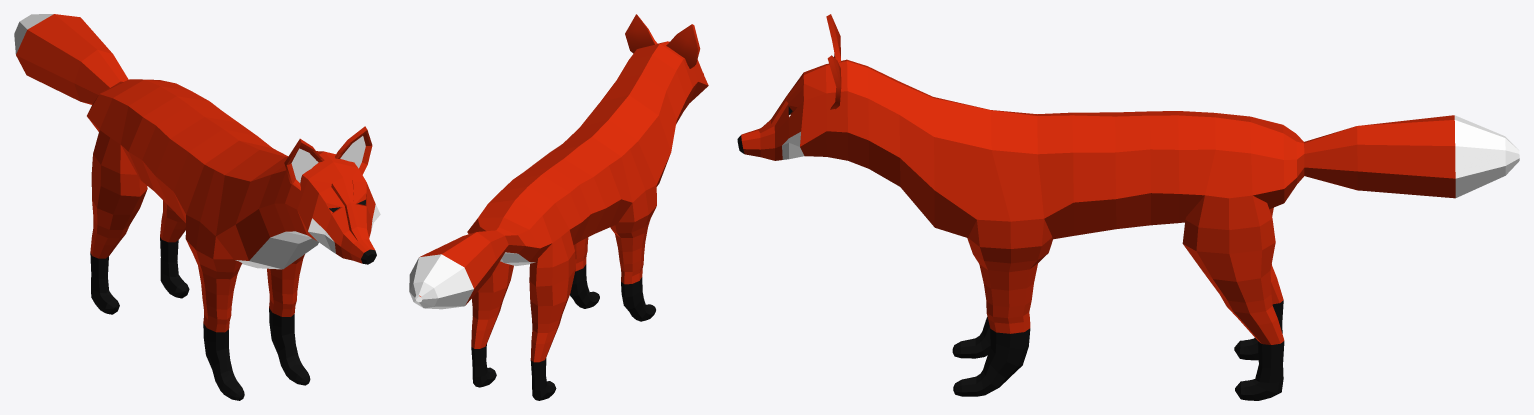
Rendered from fox.FBX.
The picture shows the model from 3 angles, left to right: view 1: azimuth 30°, elevation 25°; view 2: azimuth 150°, elevation 25°; view 3: azimuth 270°, elevation 25°; orthographic projection. The views are drawn at different scales.
Parts seen in each view (by area): view 1: Cylinder001; view 2: Cylinder001; view 3: Cylinder001.
Part boxes in pixels (x1=…): Cylinder001: x1=14, y1=14, x2=380, y2=400; Cylinder001: x1=409, y1=14, x2=708, y2=400; Cylinder001: x1=737, y1=14, x2=1519, y2=400.
Bounding box in the file's own units: 55.83 × 148 × 297.
